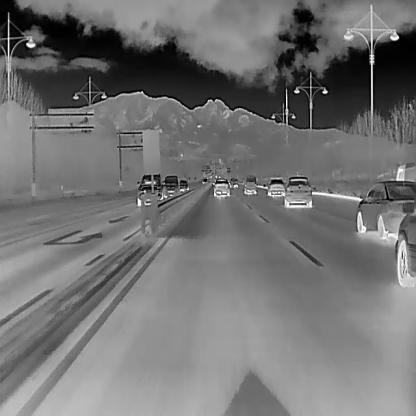car: (355, 179, 415, 239), (394, 202, 415, 287), (136, 172, 165, 206), (283, 176, 312, 207), (211, 176, 230, 197), (161, 174, 178, 197), (266, 176, 285, 196), (243, 173, 257, 194), (178, 178, 189, 192), (228, 176, 238, 188), (201, 176, 208, 184)
truck: (396, 160, 416, 182)
